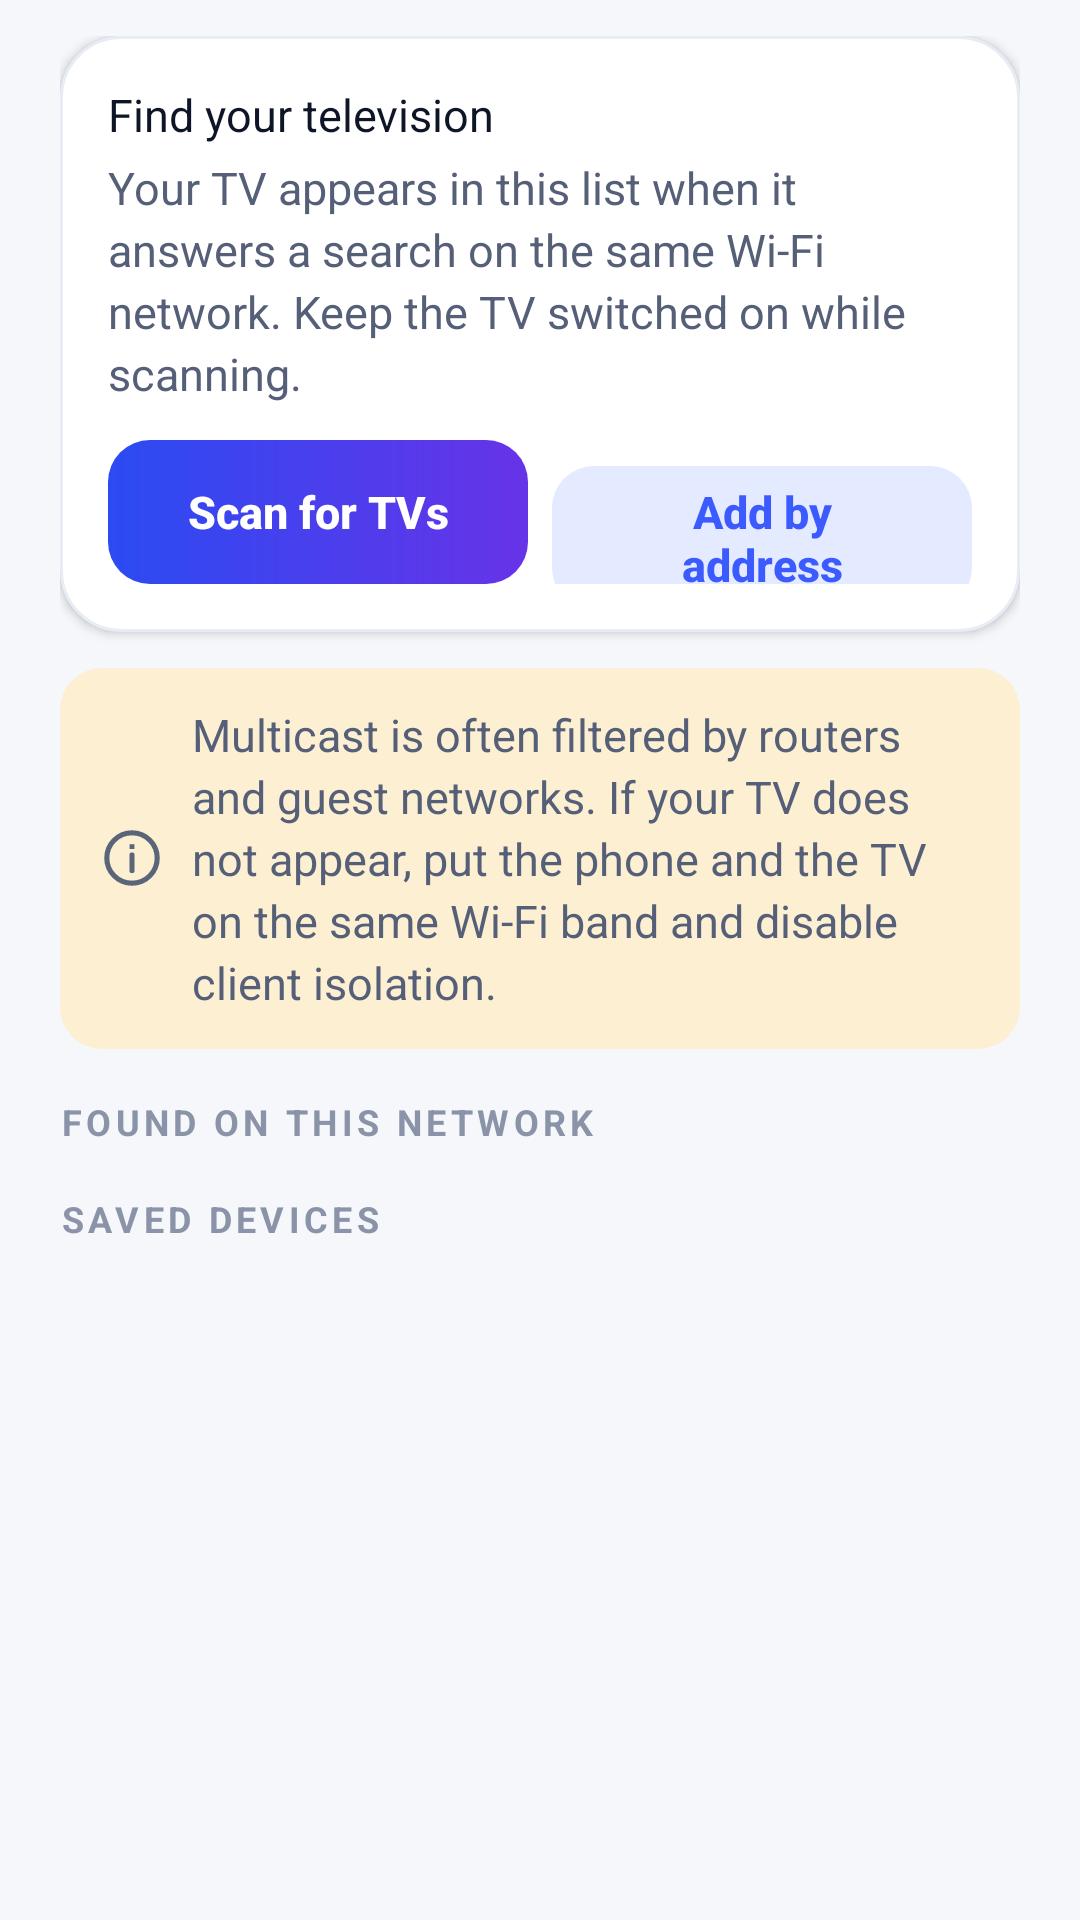

Screen size 1080 x 1920. Icon name, then its center in pixels as (x,y):
info: (132,858)
